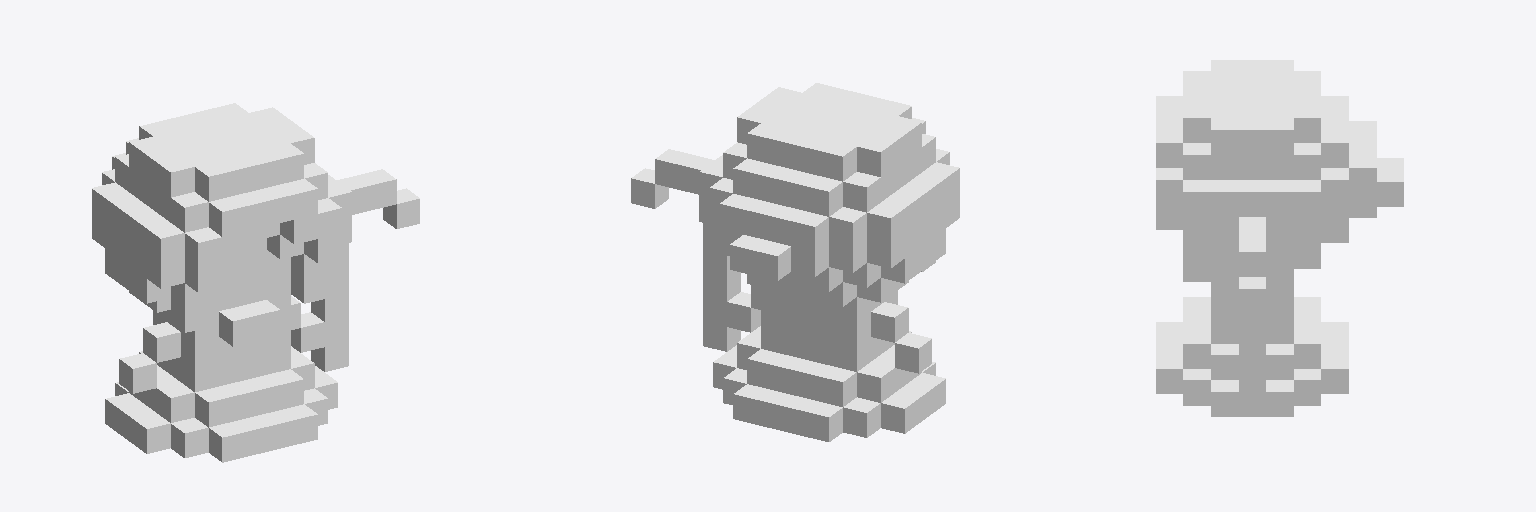
File: GrimReaper.obj
3 views of the same model, side by side, from view 1: azimuth 30°, elevation 25°; view 2: azimuth 150°, elevation 25°; view 3: azimuth 270°, elevation 25° (orthographic).
Bounding box in the file's own units: 12 × 11 × 9.